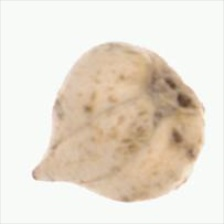L3: (30, 160, 57, 183)
L4: (31, 42, 205, 203)
